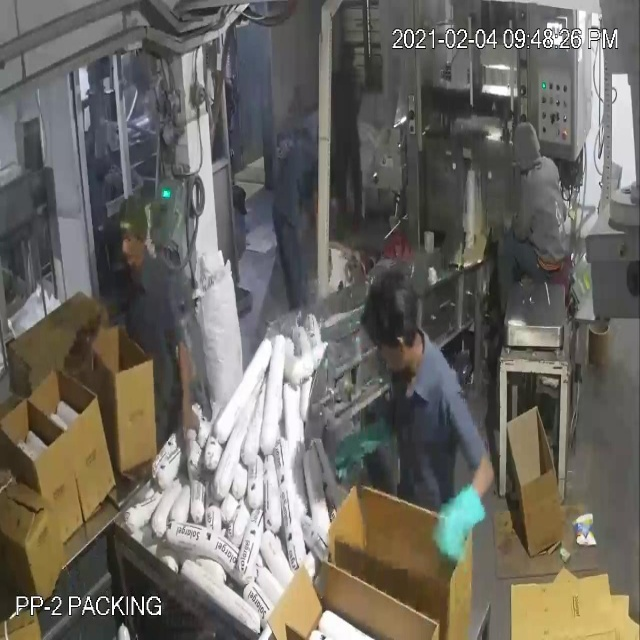Guantes: (322, 406, 396, 486), (428, 481, 493, 570)
Sin_guantes: (169, 326, 201, 456)
